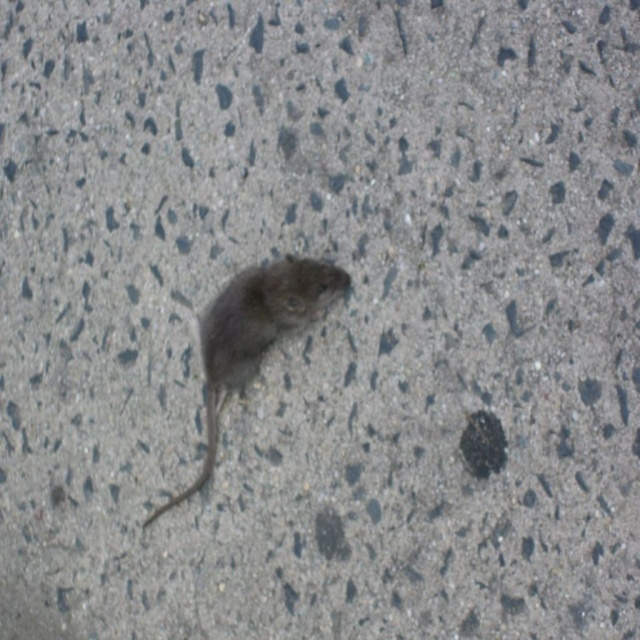Mouse: (127, 276, 356, 536)
